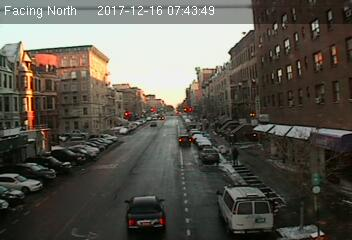car: (123, 195, 170, 229), (200, 147, 219, 162), (178, 135, 192, 145)
police: (215, 181, 278, 236)
